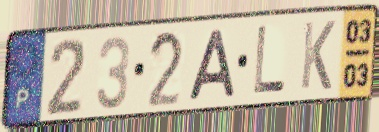2: (45, 35, 90, 118), (145, 28, 188, 109)
3: (95, 33, 132, 111)
A: (184, 26, 239, 103)
K: (298, 18, 338, 92)
L: (251, 24, 288, 96)
